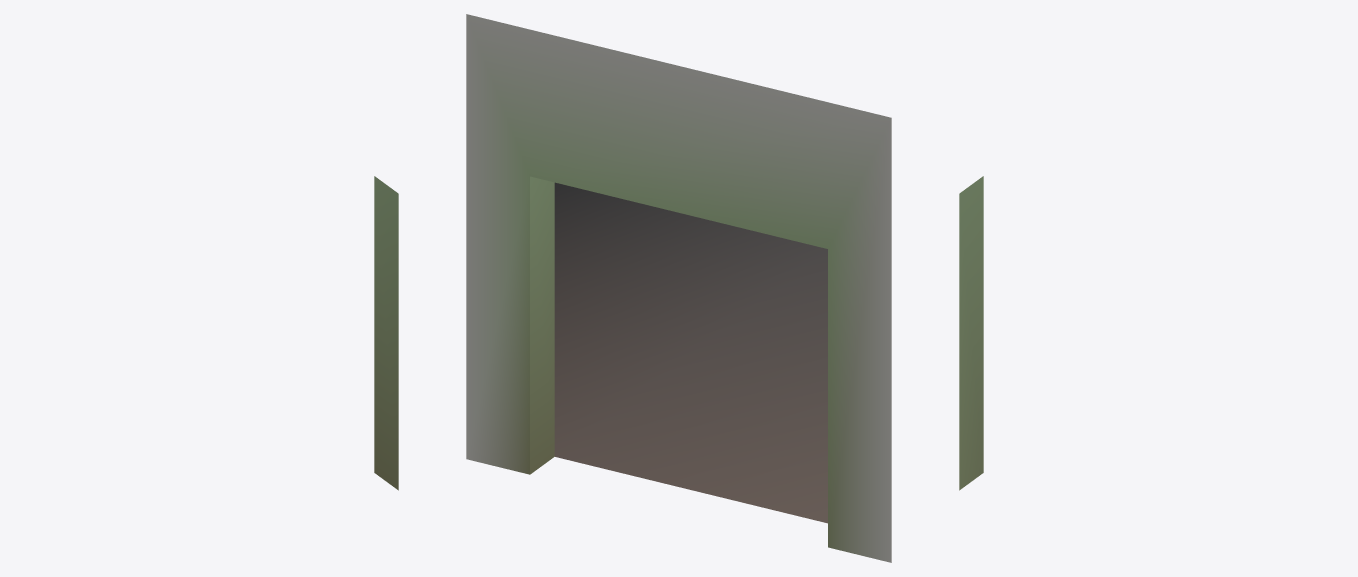
The model's file is wall-b-flat-garage.glb.
3 views of the same model, side by side, from view 1: azimuth 30°, elevation 25°; view 2: azimuth 150°, elevation 25°; view 3: azimuth 330°, elevation 25° (orthographic).
Visible parts, largest first — view 1: wall-b-flat-garage; view 2: wall-b-flat-garage; view 3: wall-b-flat-garage.
Part boxes in pixels (<box>): wall-b-flat-garage: <box>374,176,398,490</box>; wall-b-flat-garage: <box>466,14,891,562</box>; wall-b-flat-garage: <box>959,176,983,490</box>.
Size of the model in its own units: 1 by 1 by 0.1.
